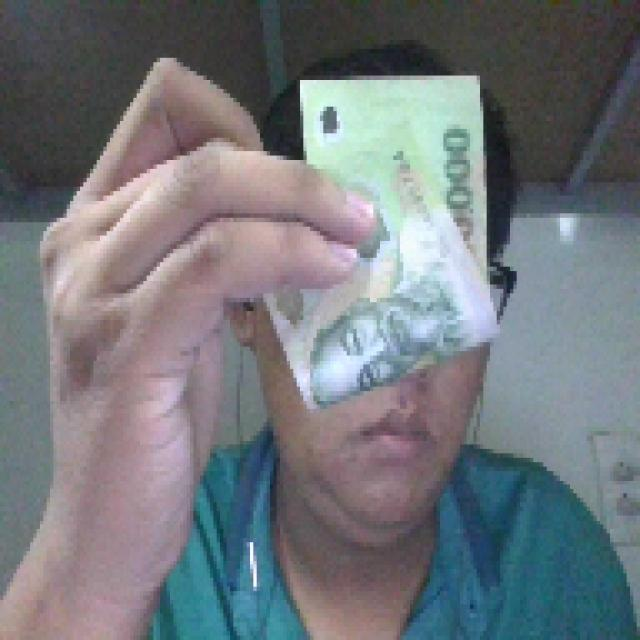100 000 VND: (260, 67, 507, 413)
